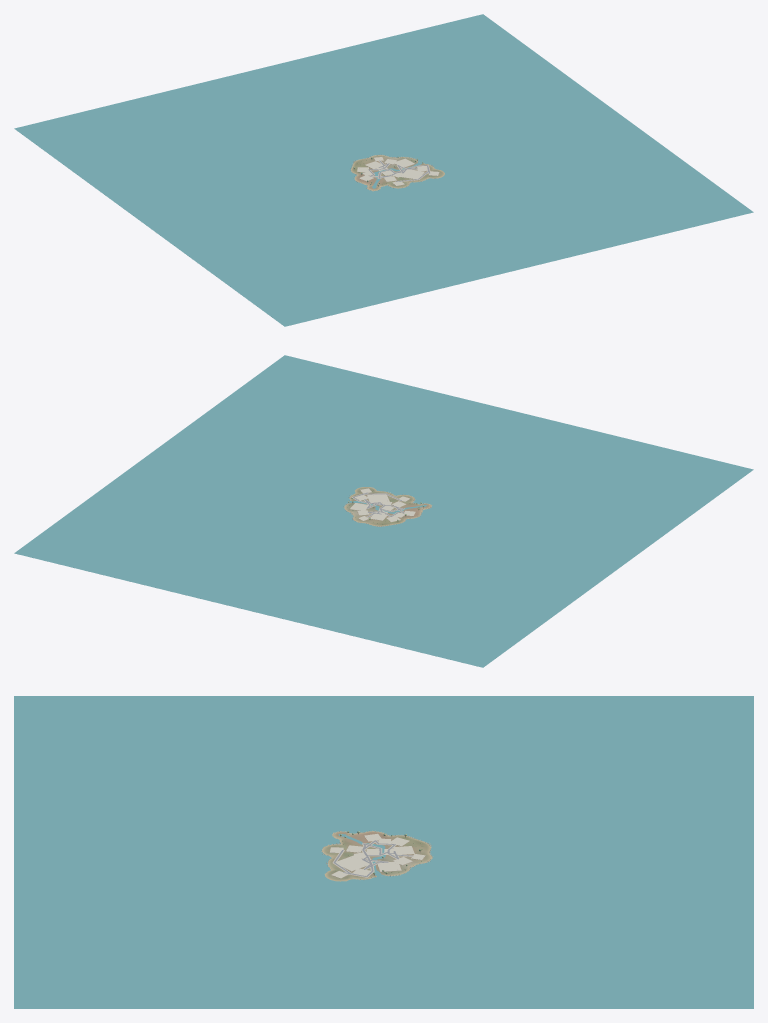
File: terrain-091b8a6e7b8e.glb
The picture shows the model from 3 angles, top to bottom: view 1: azimuth 30°, elevation 25°; view 2: azimuth 150°, elevation 25°; view 3: azimuth 270°, elevation 25°; orthographic projection. The views are drawn at different scales.
Visible parts, largest first — view 1: terrain:near:surface:1, terrain:near:surface:3, terrain:near:surface:0, terrain:far:surface:0; view 2: terrain:near:surface:1, terrain:near:surface:3, terrain:near:surface:0, terrain:far:surface:0; view 3: terrain:near:surface:1, terrain:near:surface:3, terrain:near:surface:0, terrain:far:surface:0.
Boxes of the visible parts, x1,y1,x2,y2 form: terrain:near:surface:1: (14, 14, 753, 326); terrain:near:surface:3: (357, 157, 439, 185); terrain:near:surface:0: (351, 155, 444, 190); terrain:far:surface:0: (351, 155, 444, 191); terrain:near:surface:1: (14, 355, 753, 667); terrain:near:surface:3: (350, 488, 415, 522); terrain:near:surface:0: (344, 487, 431, 526); terrain:far:surface:0: (344, 487, 431, 526); terrain:near:surface:1: (14, 696, 753, 1008); terrain:near:surface:3: (330, 833, 425, 878); terrain:near:surface:0: (322, 831, 431, 881); terrain:far:surface:0: (323, 831, 432, 881).
Bounding box in the file's own units: 900 × 6.36 × 900.
